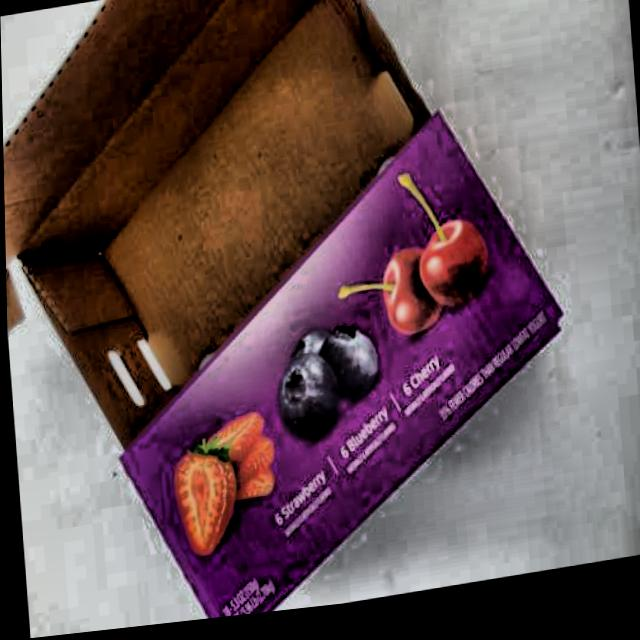Cardbox: (0, 0, 582, 640)
